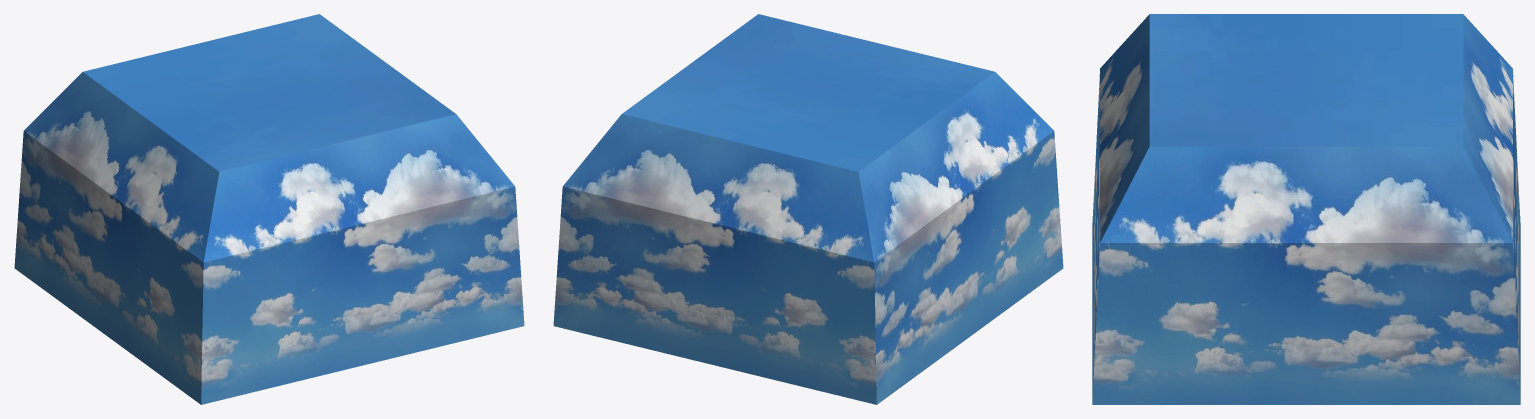
The model's file is skybox2.glb.
3 views of the same model, side by side, from view 1: azimuth 30°, elevation 25°; view 2: azimuth 150°, elevation 25°; view 3: azimuth 270°, elevation 25° (orthographic). The views are drawn at different scales.
Parts seen in each view (by area): view 1: Plane; view 2: Plane; view 3: Plane.
Part boxes in pixels (x1,y1,x2,y2): Plane: [14, 14, 524, 404]; Plane: [553, 14, 1063, 404]; Plane: [1092, 14, 1520, 404].
Size of the model in its own units: 2 by 1.21 by 2.
Materials: 1 (1 with a texture image).
